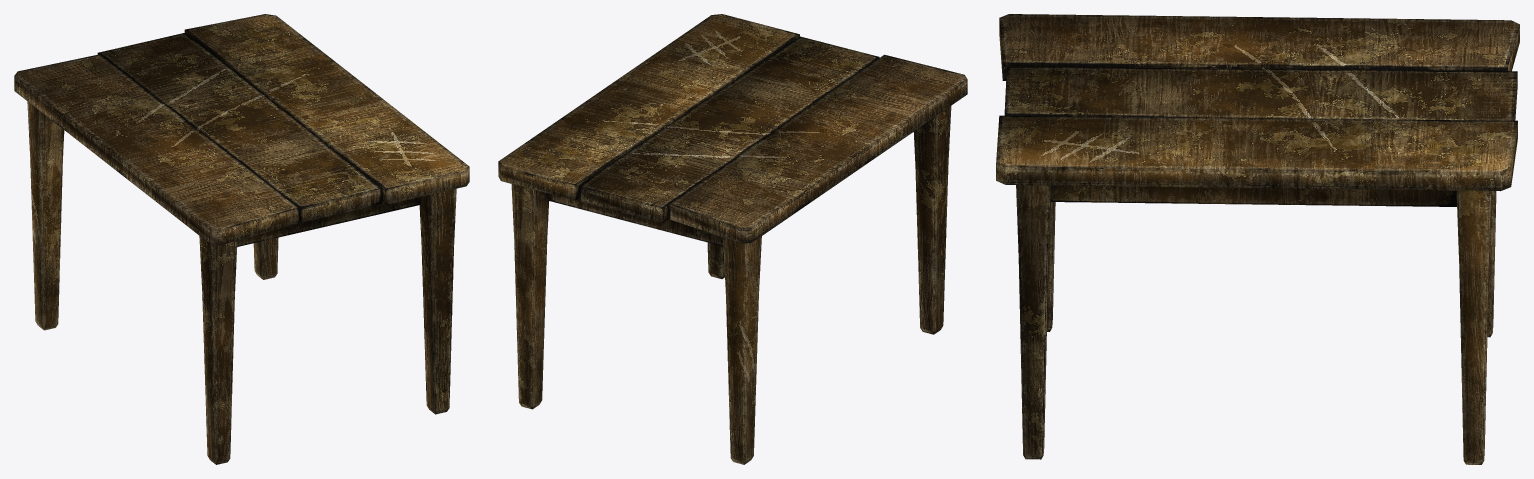
File: mesa.glb
3 renders of one model, left to right at view 1: azimuth 30°, elevation 25°; view 2: azimuth 150°, elevation 25°; view 3: azimuth 270°, elevation 25°, orthographic. The views are drawn at different scales.
Visible parts, largest first — view 1: Small wooden table; view 2: Small wooden table; view 3: Small wooden table.
Part boxes in pixels (left/top/right/bottom): Small wooden table: left=14, top=14, right=469, bottom=464; Small wooden table: left=498, top=14, right=967, bottom=464; Small wooden table: left=996, top=14, right=1519, bottom=464.
Size of the model in its own units: 0.8014 by 0.713 by 1.11.
1 material, 1 textured.
